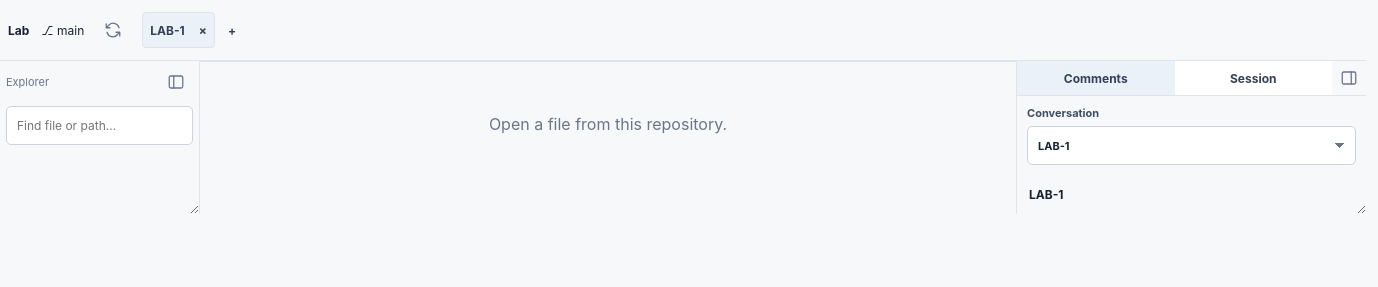
Test: clears an ordinary refresh failure after retry without clearing unrelated recovery failures
expect the navigation bar named "Repository files" is shown: met, box [0, 61, 200, 214]
Click the button named "Refresh workspace" at (113, 30), box [96, 13, 130, 47]
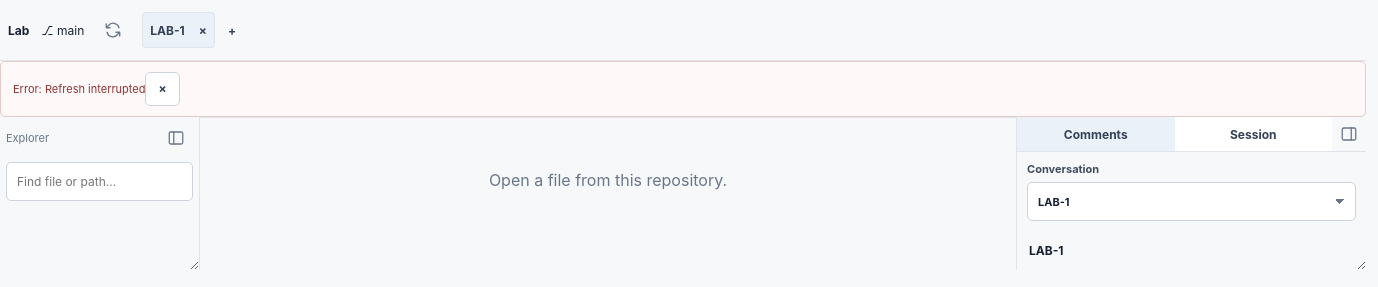
expect the message shows "Refresh interrupted": met, box [13, 82, 146, 96]
Click the button named "Refresh workspace" at (113, 30), box [96, 13, 130, 47]
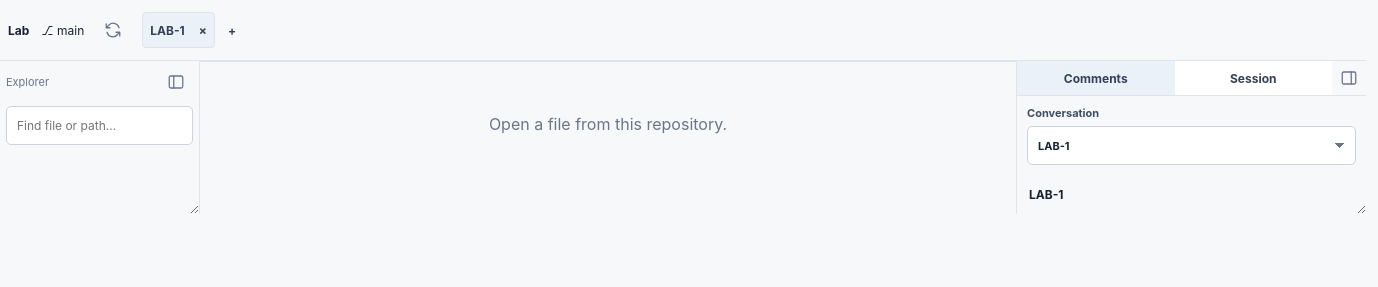
expect the message "Error: Refresh interrupted ×" is gone: met
